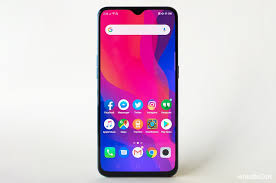oppo: (95, 3, 182, 180)
